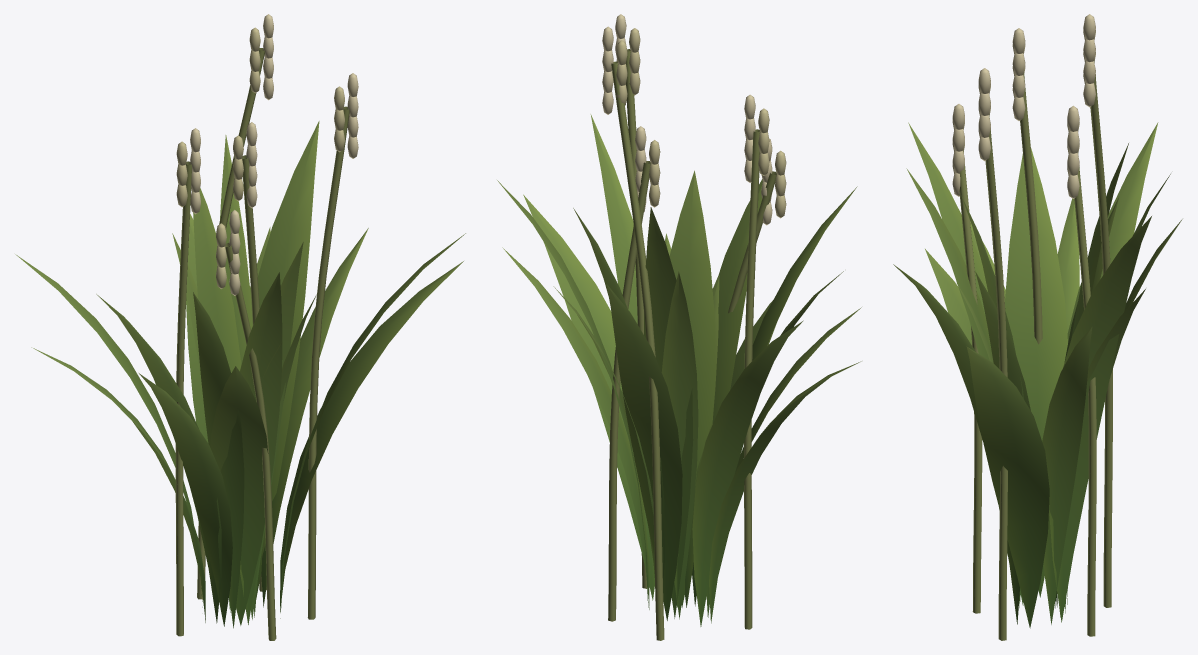
File: coastal-seedgrass.glb
The picture shows the model from 3 angles, left to right: view 1: azimuth 30°, elevation 25°; view 2: azimuth 150°, elevation 25°; view 3: azimuth 270°, elevation 25°; orthographic projection. The views are drawn at different scales.
Parts seen in each view (by area): view 1: painted-foliage; view 2: painted-foliage; view 3: painted-foliage.
Boxes of the visible parts, bbox=[...] form: painted-foliage: bbox=[15, 14, 465, 640]; painted-foliage: bbox=[497, 14, 861, 640]; painted-foliage: bbox=[893, 14, 1182, 640].
Bounding box in the file's own units: 1.31 × 1.88 × 0.7966.
